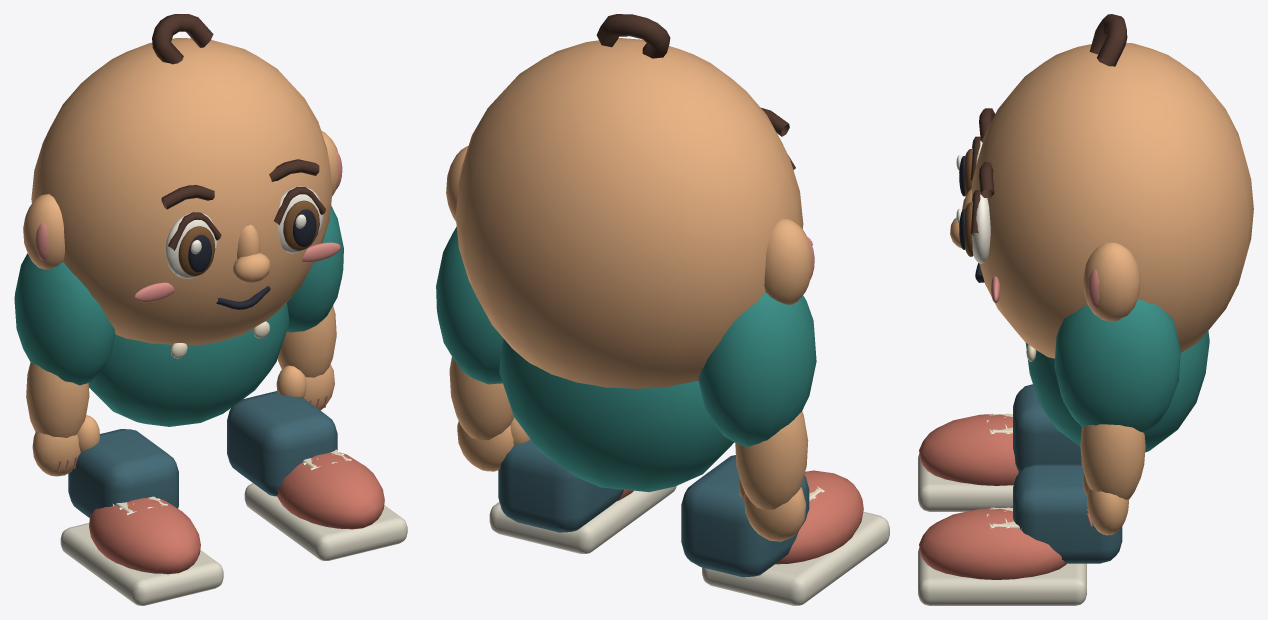
File: baby.glb
The picture shows the model from 3 angles, left to right: view 1: azimuth 30°, elevation 25°; view 2: azimuth 150°, elevation 25°; view 3: azimuth 270°, elevation 25°; orthographic projection. The views are drawn at different scales.
Parts seen in each view (by area): view 1: Head_skin, Crafted_teal, ArmL_teal, LegR_pants, LegL_pants, LegL_coral, LegR_coral, ArmL_skin, LegL_rubber, LegR_rubber, Head_hair, ArmR_skin (+5 smaller); view 2: Head_skin, Crafted_teal, ArmL_teal, LegL_pants, LegR_pants, ArmL_skin, LegL_rubber, ArmR_teal, ArmR_skin, LegL_coral, LegR_rubber, Head_hair; view 3: Head_skin, ArmR_teal, LegR_coral, LegR_pants, LegL_coral, ArmR_skin, LegR_rubber, Crafted_teal, LegL_pants, LegL_rubber, Head_hair, Head_white (+3 smaller).
Boxes of the visible parts, <box> form: Head_skin: <box>23,38,338,345</box>; Crafted_teal: <box>88,303,289,426</box>; ArmL_teal: <box>14,253,115,385</box>; LegR_pants: <box>227,391,337,496</box>; LegL_pants: <box>68,429,178,517</box>; LegL_coral: <box>89,498,200,574</box>; LegR_coral: <box>277,452,384,529</box>; ArmL_skin: <box>26,362,100,476</box>; LegL_rubber: <box>60,523,223,605</box>; LegR_rubber: <box>244,483,407,560</box>; Head_hair: <box>152,14,325,250</box>; ArmR_skin: <box>276,305,336,410</box>; Head_skin: <box>446,38,812,388</box>; Crafted_teal: <box>499,338,733,492</box>; ArmL_teal: <box>698,292,816,446</box>; LegL_pants: <box>681,455,809,577</box>; LegR_pants: <box>498,439,623,532</box>; ArmL_skin: <box>735,411,808,541</box>; LegL_rubber: <box>702,511,889,605</box>; ArmR_teal: <box>436,227,503,384</box>; ArmR_skin: <box>449,357,530,471</box>; LegL_coral: <box>775,470,863,564</box>; LegR_rubber: <box>489,486,676,553</box>; Head_hair: <box>596,14,795,169</box>; Head_skin: <box>950,42,1253,358</box>; ArmR_teal: <box>1054,299,1180,433</box>; LegR_coral: <box>919,508,1066,579</box>; LegR_pants: <box>1013,464,1122,563</box>; LegL_coral: <box>919,414,1018,485</box>; ArmR_skin: <box>1080,424,1145,535</box>; LegR_rubber: <box>918,548,1086,605</box>; Crafted_teal: <box>1025,331,1209,452</box>; LegL_pants: <box>1013,384,1081,472</box>; LegL_rubber: <box>918,454,1013,511</box>; Head_hair: <box>970,14,1127,235</box>; Head_white: <box>956,140,990,263</box>.
Size of the model in its own units: 0.98 by 1.49 by 0.875.
